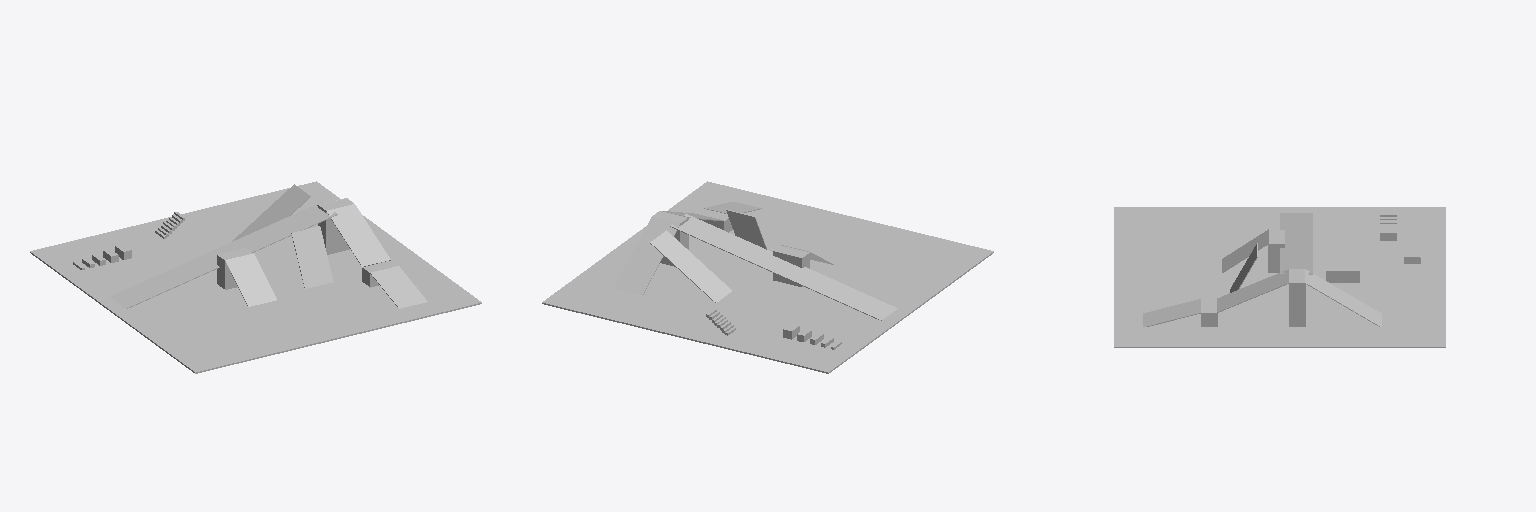
File: physic.obj
3 renders of one model, left to right at view 1: azimuth 30°, elevation 25°; view 2: azimuth 150°, elevation 25°; view 3: azimuth 270°, elevation 25°, orthographic.
Visible parts, largest first — view 1: Cube, Cube.006, Cube.004, Cube.010, Cube.007, Cube.002, Cube.009, Cube.003, Cube.008; view 2: Cube, Cube.006, Cube.005, Cube.009, Cube.010, Cube.008; view 3: Cube, Cube.006, Cube.005, Cube.004, Cube.003, Cube.002, Cube.007, Cube.008.
Boxes of the visible parts, x1=… form: Cube: x1=30, y1=181, x2=481, y2=373; Cube.006: x1=110, y1=202, x2=337, y2=308; Cube.004: x1=326, y1=204, x2=390, y2=266; Cube.010: x1=291, y1=226, x2=333, y2=288; Cube.007: x1=225, y1=253, x2=276, y2=306; Cube.002: x1=370, y1=266, x2=427, y2=308; Cube.009: x1=232, y1=184, x2=310, y2=241; Cube.003: x1=318, y1=198, x2=353, y2=254; Cube.008: x1=217, y1=248, x2=252, y2=289; Cube: x1=542, y1=181, x2=993, y2=373; Cube.006: x1=670, y1=214, x2=897, y2=320; Cube.005: x1=614, y1=217, x2=680, y2=295; Cube.009: x1=650, y1=230, x2=731, y2=302; Cube.010: x1=726, y1=209, x2=766, y2=249; Cube.008: x1=773, y1=246, x2=809, y2=286; Cube: x1=1114, y1=207, x2=1445, y2=347; Cube.006: x1=1280, y1=213, x2=1312, y2=274; Cube.005: x1=1305, y1=269, x2=1381, y2=326; Cube.004: x1=1217, y1=269, x2=1288, y2=312; Cube.003: x1=1289, y1=269, x2=1305, y2=326; Cube.002: x1=1143, y1=299, x2=1200, y2=326; Cube.007: x1=1222, y1=229, x2=1268, y2=272; Cube.008: x1=1268, y1=230, x2=1284, y2=272.
Size of the model in its own units: 40 by 6.75 by 40.